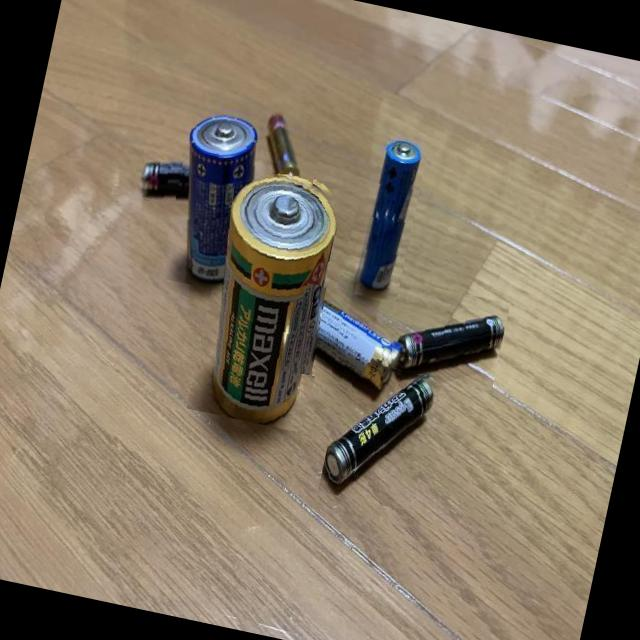Hazard: (186, 160, 362, 434), (158, 106, 280, 296), (317, 356, 442, 512), (382, 280, 510, 395), (288, 282, 413, 393), (348, 132, 429, 302), (131, 148, 222, 214), (255, 106, 326, 187)
